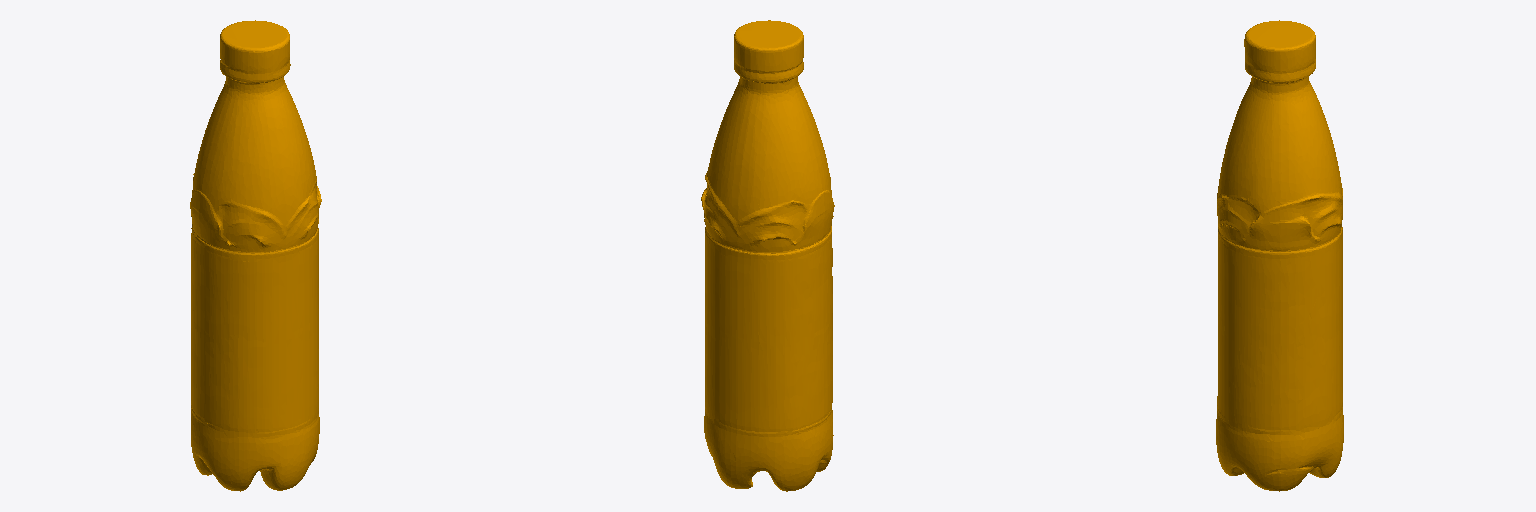
URDF robot description (sample):
<?xml version="1.0" ?>
<robot name="sample">
   <link name="sample">
      <visual>
         <origin xyz="0 0 0" rpy="1.5708 0.0 0.0"/>
         <geometry>
            <mesh filename="mesh/sample.obj" scale="1.0 1.0 1.0"/>
         </geometry>
      </visual>
      <collision>
         <origin xyz="0 0 0" rpy="1.5708 0.0 0.0"/>
         <geometry>
            <mesh filename="mesh/sample_collision.obj" scale="1.0 1.0 1.0"/>
         </geometry>
         <gazebo>
            <mu1>0.50</mu1>
            <mu2>0.40</mu2>
         </gazebo>
      </collision>
      <inertial>
         <mass value="0.4000"/>
         <origin xyz="0 0 0"/>
         <inertia ixx="1.0" ixy="0.0" ixz="0.0" iyy="1.0" iyz="0.0" izz="1.0"/>
      </inertial>
      <extra_info>
         <scale>0.275000</scale>
         <version>v0.1.7</version>
         <category>bottle drink</category>
         <description>transparent plastic bottle with red cap and label</description>
         <min_height>0.25</min_height>
         <max_height>0.3</max_height>
         <real_height>0.275</real_height>
         <min_mass>0.3</min_mass>
         <max_mass>0.5</max_mass>
         <color>white</color>
         <rgba>[0.95, 0.95, 0.95, 1.0]</rgba>
         <generate_time>20260708110848</generate_time>
         <gs_model>mesh/sample_gs.ply</gs_model>
      </extra_info>
   </link>
   <custom_data>
      <quality>
         <MeshGeoChecker>YES</MeshGeoChecker>
         <ImageSegChecker>NO, object is not centered and has visible background artifacts.</ImageSegChecker>
         <ImageAestheticChecker>4.425690174102783</ImageAestheticChecker>
         <overall>NO</overall>
      </quality>
   </custom_data>
</robot>

--- Render facts (derived) ---
3 views of the same robot in one strip: view 1: azimuth 30°, elevation 25°; view 2: azimuth 150°, elevation 25°; view 3: azimuth 270°, elevation 25° (orthographic).
Robot: sample — 1 links, 0 joints (none); root link sample; default pose: all joints at 0.
Links seen in each view (by area): view 1: sample; view 2: sample; view 3: sample.
Link boxes in pixels (box(x1,y1,x2,y2)): sample: box(190, 20, 321, 491); sample: box(701, 20, 834, 491); sample: box(1216, 20, 1343, 491).
Bounding box of the posed robot: 0.0742 × 0.0733 × 0.275 m (x, y, z).
Meshes: 1 distinct files referenced, 1 mesh visuals loaded (1 OBJ).
